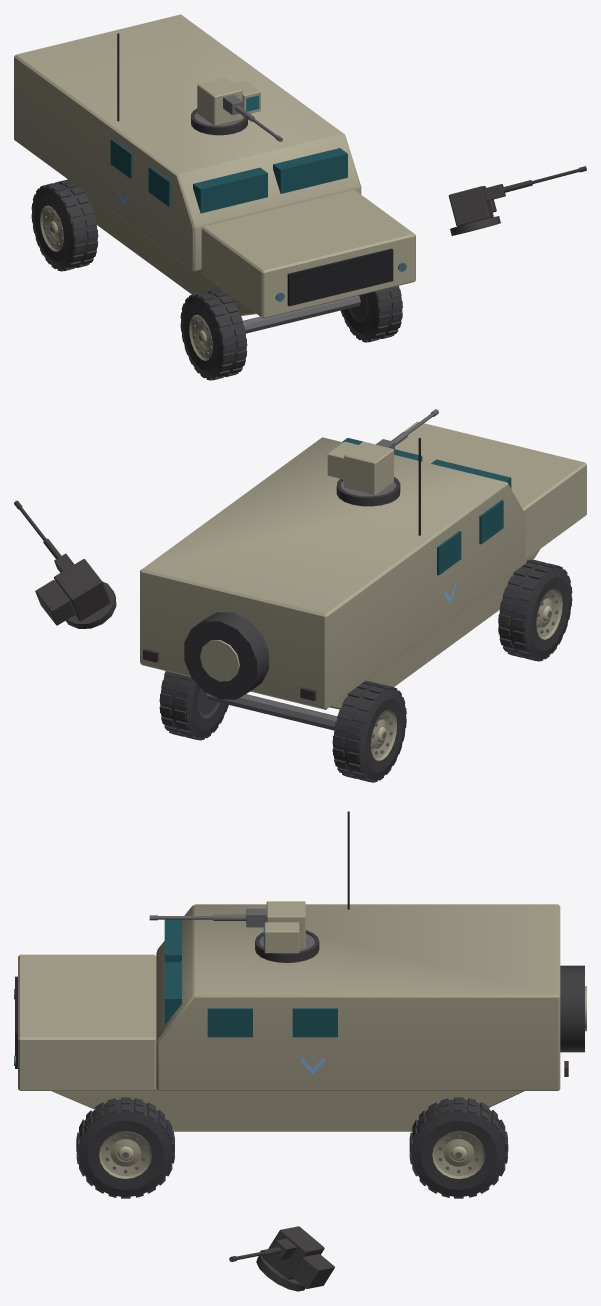
The model's file is bushmaster__sandcat_tigris.glb.
3 views of the same model, one above another, from view 1: azimuth 30°, elevation 25°; view 2: azimuth 150°, elevation 25°; view 3: azimuth 270°, elevation 25° (orthographic). The views are drawn at different scales.
Parts seen in each view (by area): view 1: Hull_Mesh, Wheel_L1_Mesh, Wheel_L0_Mesh, Wreck, Wheel_R1_Mesh, Turret_Mesh, Gun_Mesh; view 2: Hull_Mesh, Wheel_L1_Mesh, Wheel_L0_Mesh, Wreck, Wheel_R0_Mesh, Turret_Mesh; view 3: Hull_Mesh, Wheel_R0_Mesh, Wheel_R1_Mesh, Wreck, Turret_Mesh, Gun_Mesh.
Part boxes in pixels (x1=…): Hull_Mesh: x1=14, y1=14, x2=415, y2=333; Wheel_L1_Mesh: x1=180, y1=289, x2=247, y2=380; Wheel_L0_Mesh: x1=31, y1=179, x2=98, y2=271; Wreck: x1=61, y1=108, x2=586, y2=338; Wheel_R1_Mesh: x1=340, y1=286, x2=402, y2=342; Turret_Mesh: x1=194, y1=78, x2=260, y2=126; Gun_Mesh: x1=223, y1=94, x2=282, y2=141; Hull_Mesh: x1=140, y1=421, x2=586, y2=730; Wheel_L1_Mesh: x1=498, y1=559, x2=572, y2=661; Wheel_L0_Mesh: x1=332, y1=680, x2=406, y2=782; Wreck: x1=14, y1=477, x2=542, y2=777; Wheel_R0_Mesh: x1=159, y1=671, x2=228, y2=740; Turret_Mesh: x1=327, y1=441, x2=396, y2=496; Hull_Mesh: x1=14, y1=811, x2=586, y2=1131; Wheel_R0_Mesh: x1=409, y1=1097, x2=508, y2=1198; Wheel_R1_Mesh: x1=76, y1=1097, x2=174, y2=1198; Wreck: x1=98, y1=930, x2=476, y2=1291; Turret_Mesh: x1=259, y1=901, x2=314, y2=953; Gun_Mesh: x1=149, y1=908, x2=266, y2=927.
Size of what is drawn, in the model's own units: 5.47 by 3.21 by 5.59.
